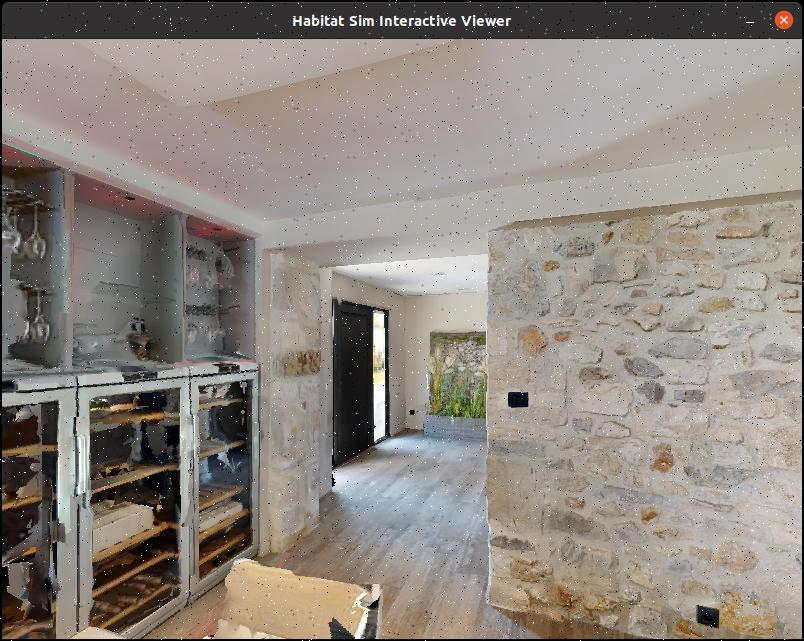door-frame: (267, 239, 521, 603)
